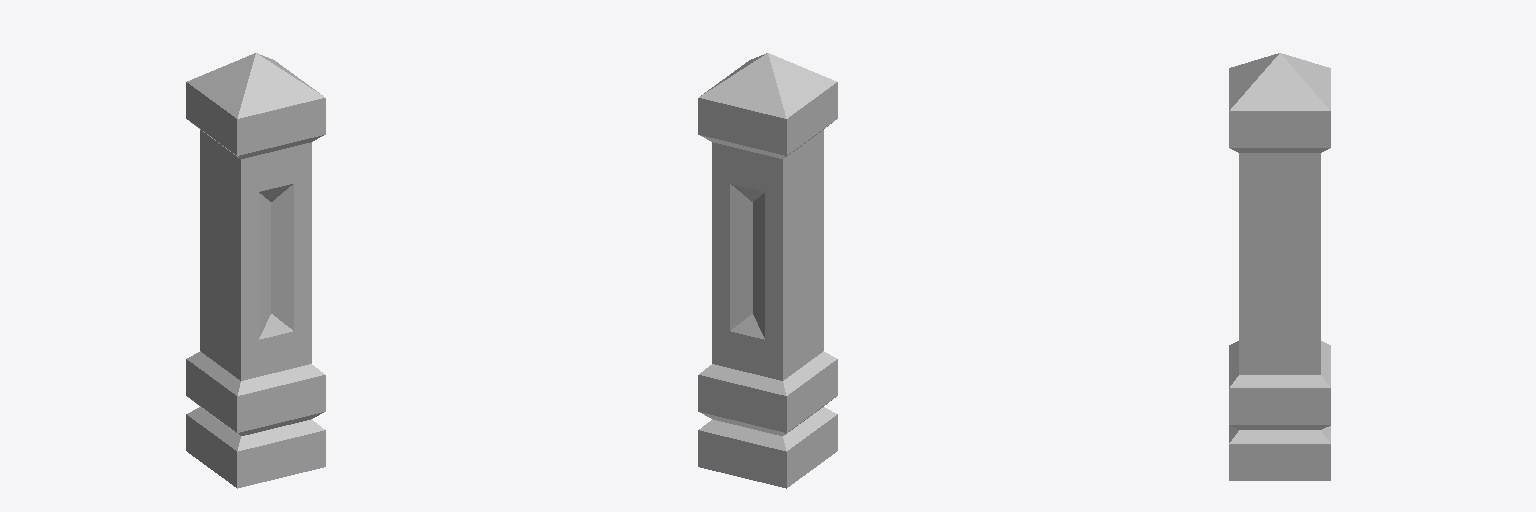
The model's file is pillar.obj.
3 renders of one model, left to right at view 1: azimuth 30°, elevation 25°; view 2: azimuth 150°, elevation 25°; view 3: azimuth 270°, elevation 25°, orthographic.
Visible parts, largest first — view 1: pillar_Cube.524; view 2: pillar_Cube.524; view 3: pillar_Cube.524.
Boxes of the visible parts, <box> form: pillar_Cube.524: <box>186,53,325,488</box>; pillar_Cube.524: <box>698,53,837,488</box>; pillar_Cube.524: <box>1229,53,1330,480</box>.
Size of the model in its own units: 1 by 4.4 by 1.